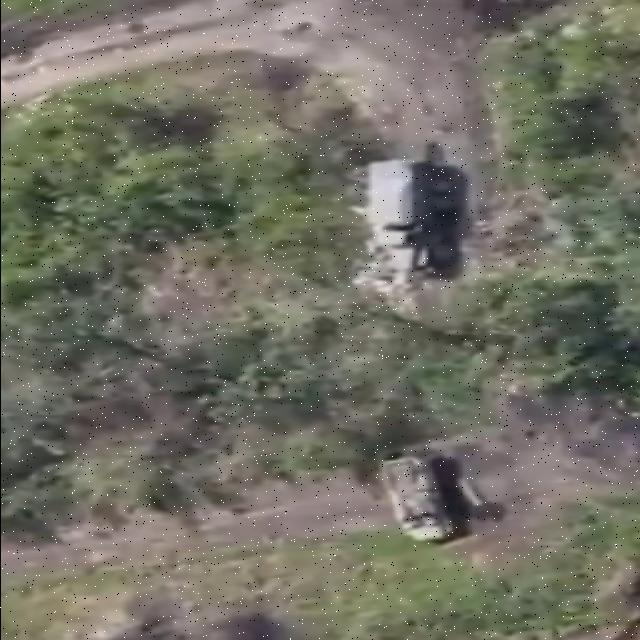APC-IFV: (374, 456, 454, 545)
TRUCK: (362, 158, 454, 276)
